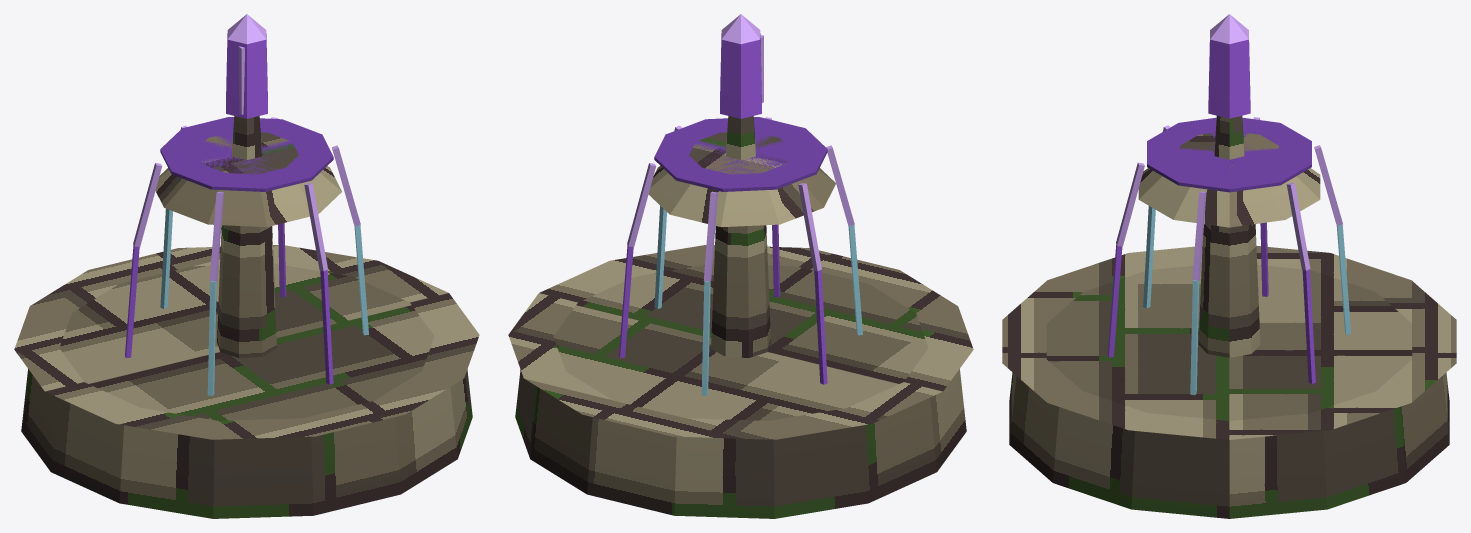
The model's file is prism_fountain.glb.
3 renders of one model, left to right at view 1: azimuth 30°, elevation 25°; view 2: azimuth 150°, elevation 25°; view 3: azimuth 270°, elevation 25°, orthographic.
Parts seen in each view (by area): view 1: prism_fountain; view 2: prism_fountain; view 3: prism_fountain.
Boxes of the visible parts, x1,y1,x2,y2 form: prism_fountain: (14, 14, 479, 518); prism_fountain: (508, 14, 973, 518); prism_fountain: (1002, 14, 1456, 518).
Bounding box in the file's own units: 2.68 × 2.6 × 2.61.
Materials: 2 (1 with a texture image).
